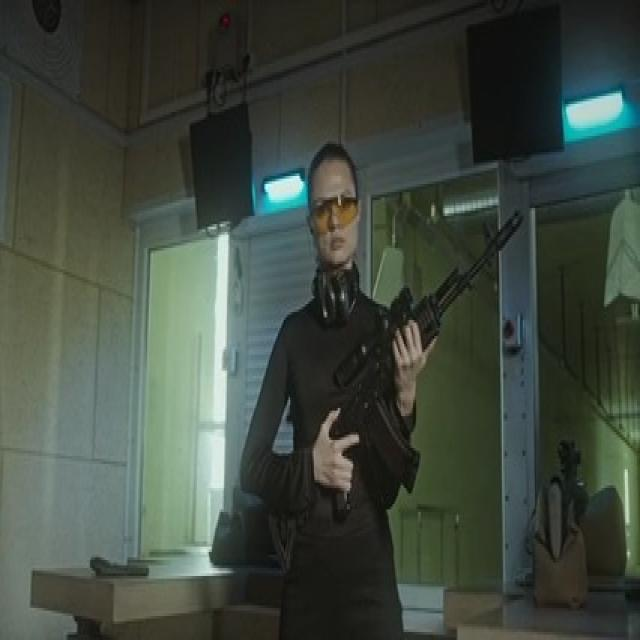Gun_Holder: (281, 207, 536, 550)
Person: (233, 134, 426, 639)
